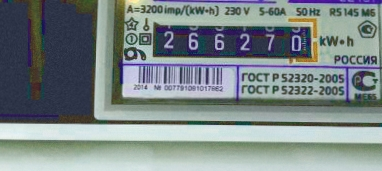0: (288, 32, 302, 52)
2: (161, 28, 174, 50), (238, 31, 251, 52)
6: (186, 30, 198, 51), (212, 31, 225, 50)
7: (264, 32, 274, 51)
screen: (139, 11, 323, 68)
